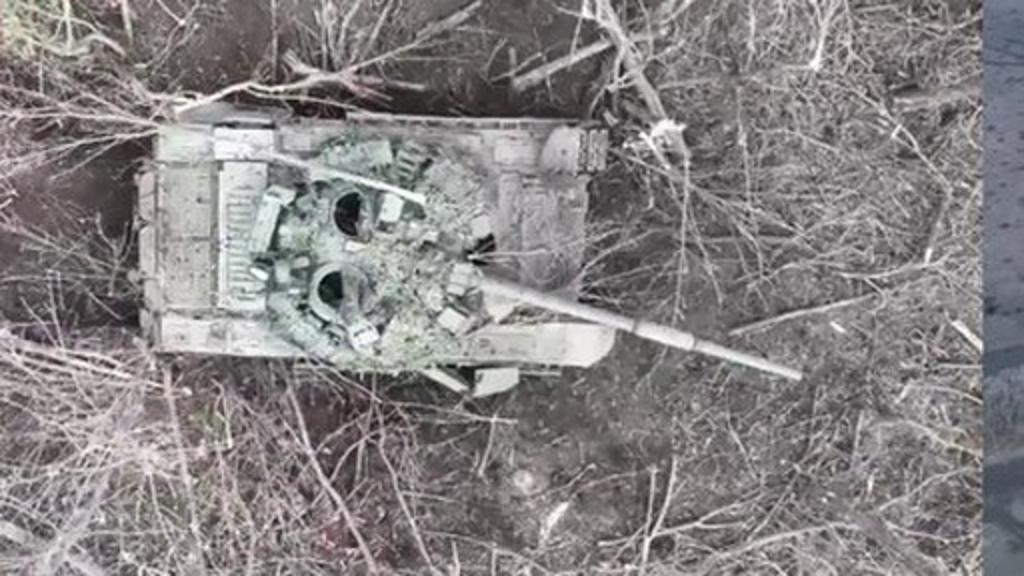TANK: (110, 80, 808, 416)
